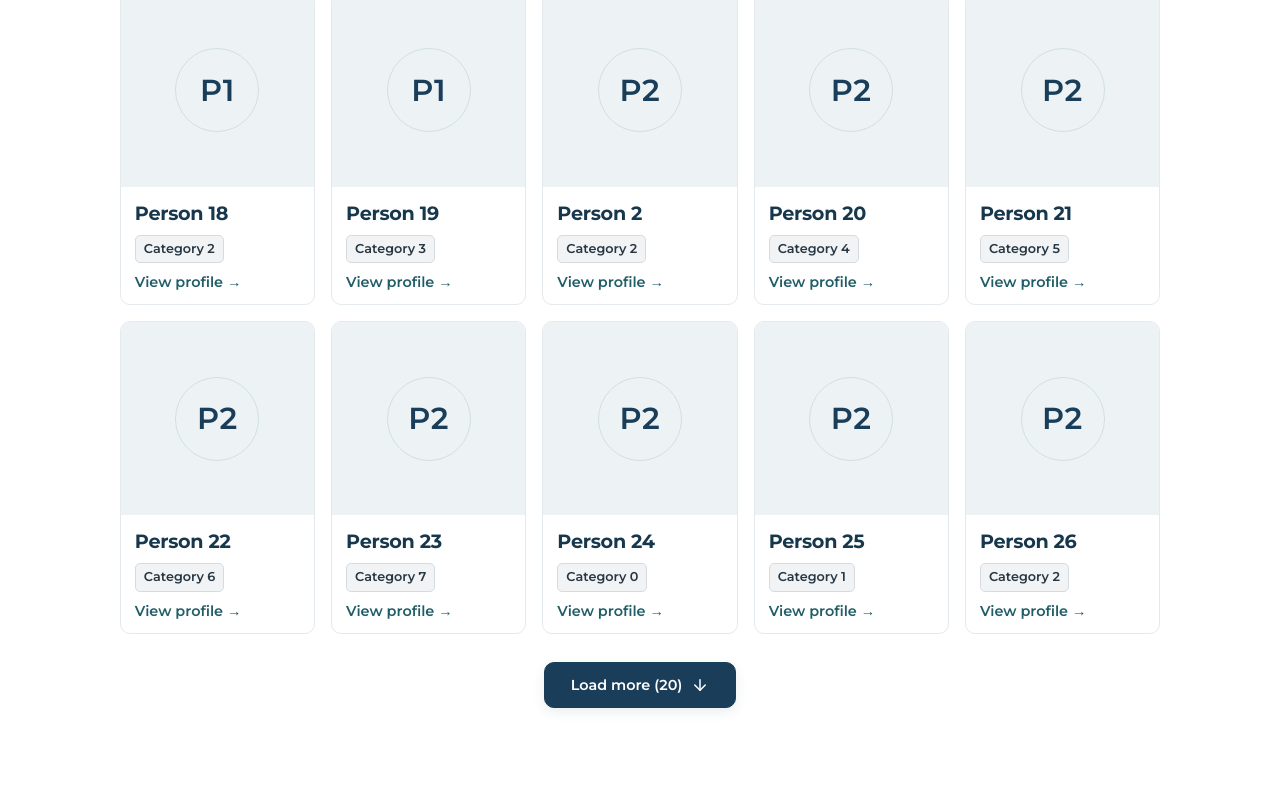
Test: desktop starts with twenty and shows the actual final batch count
(page scrolled)
Step 1. Click the button "Load more (20)" → (640, 685), box 544,662 -> 736,708
(page scrolled)
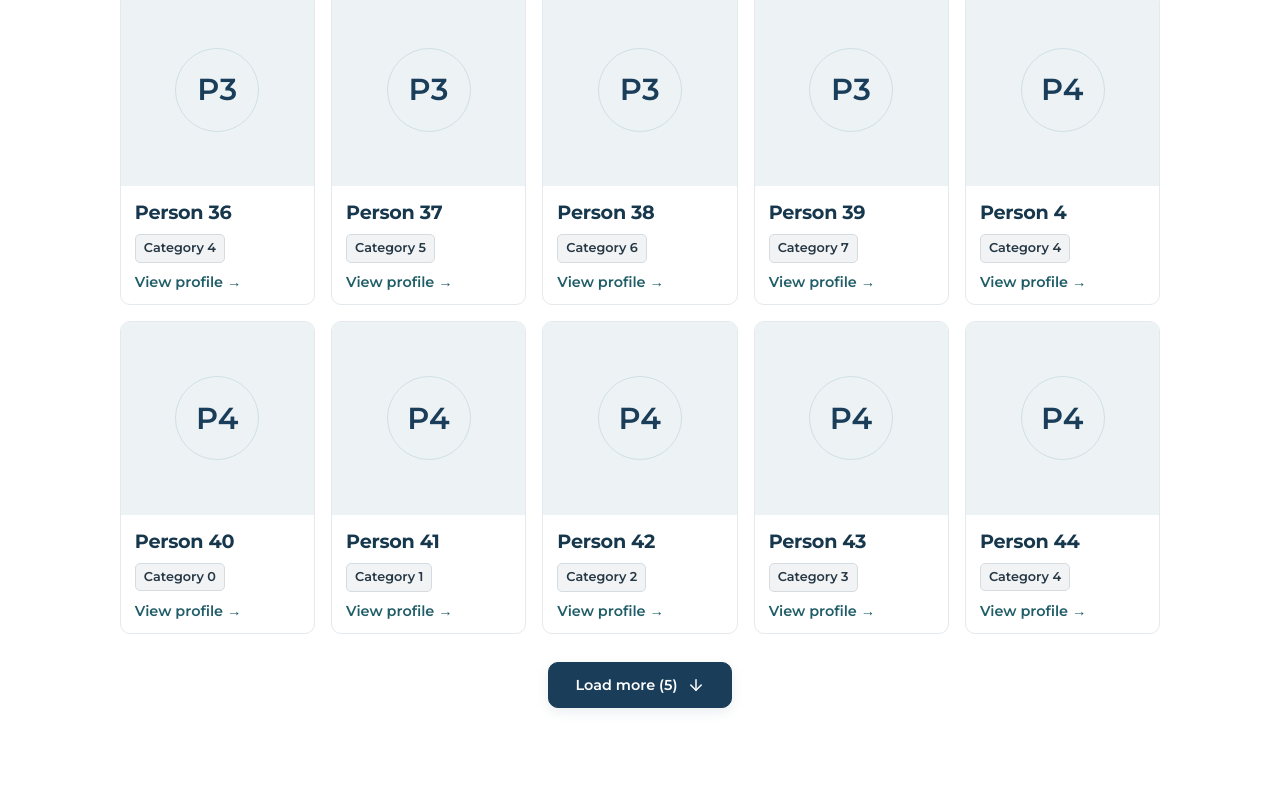
Step 2. Click the button "Load more (5)" → (640, 684), box 548,662 -> 732,708
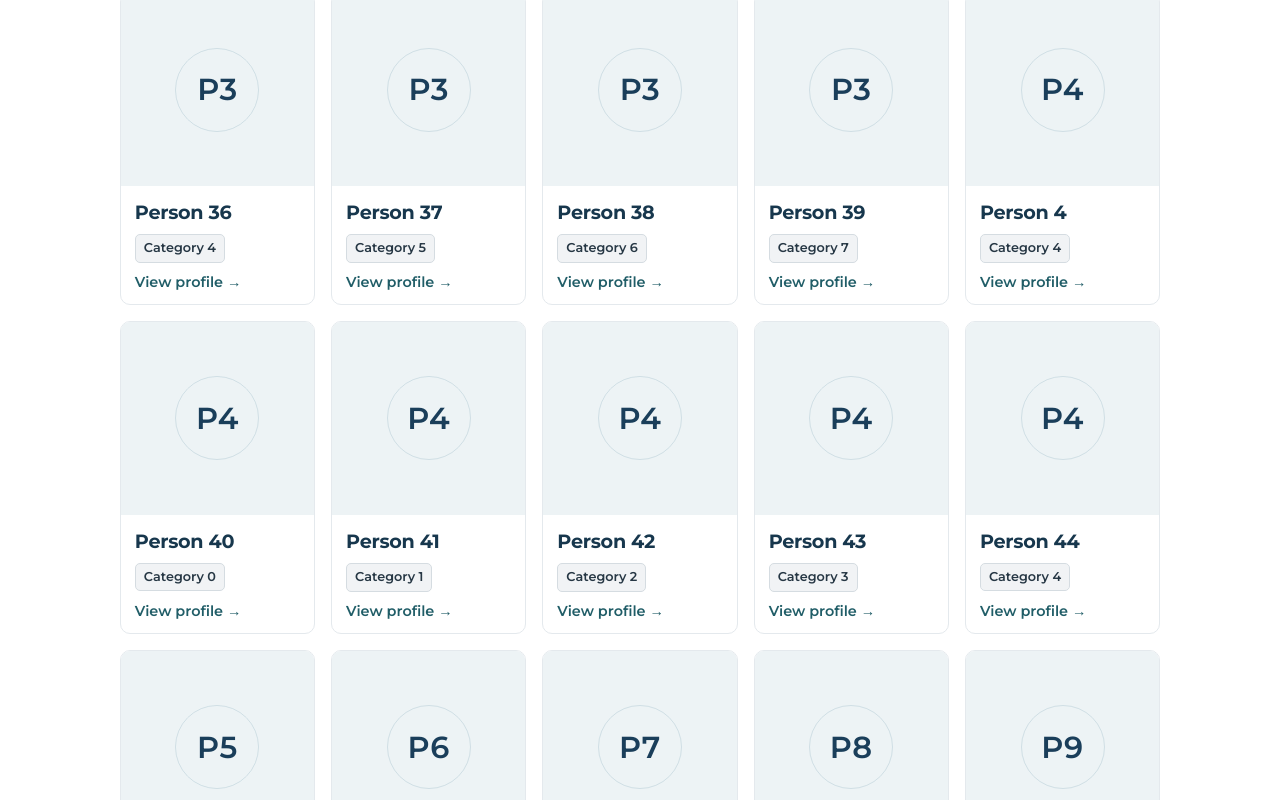
expect the button with class "load-more-button" is gone: met
